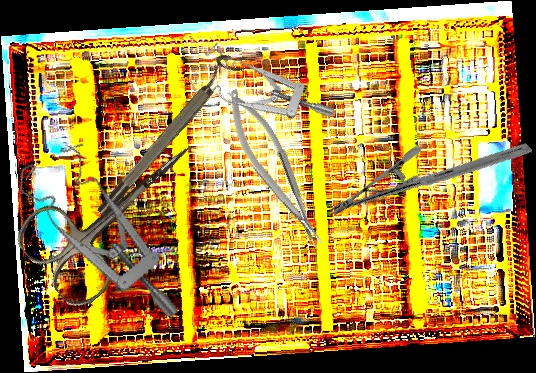Fixation Ring: (87, 49, 245, 221)
Iris Scissors: (8, 107, 227, 315)
Needle Holder: (327, 74, 534, 285), (216, 81, 331, 257)
Speculum: (11, 128, 182, 349), (182, 20, 336, 170)
